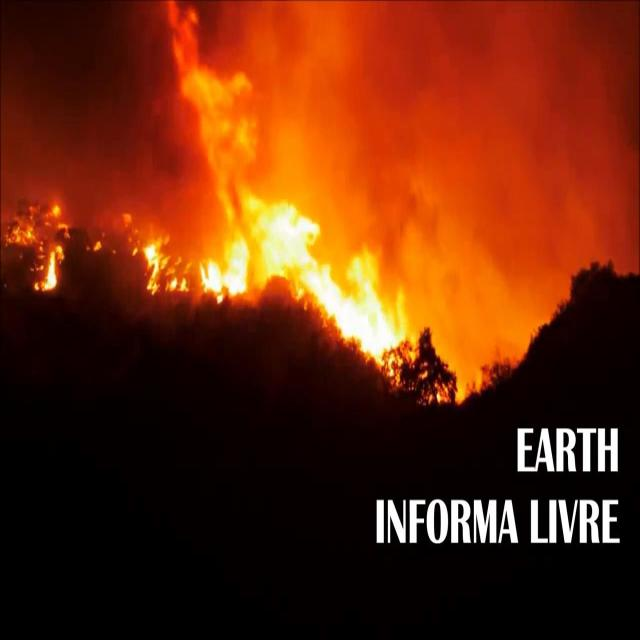Fire: (192, 180, 419, 378), (2, 204, 104, 295), (122, 219, 188, 296)
